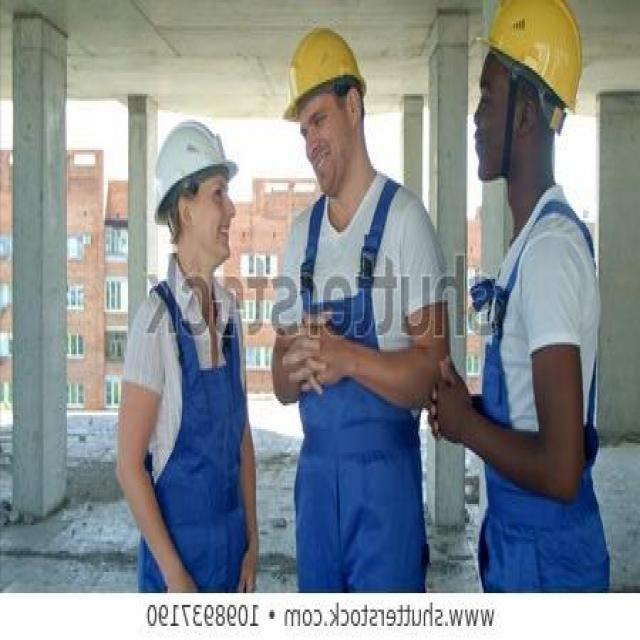Safety-Helmet: (472, 0, 589, 122), (146, 108, 242, 225), (280, 18, 373, 126)
